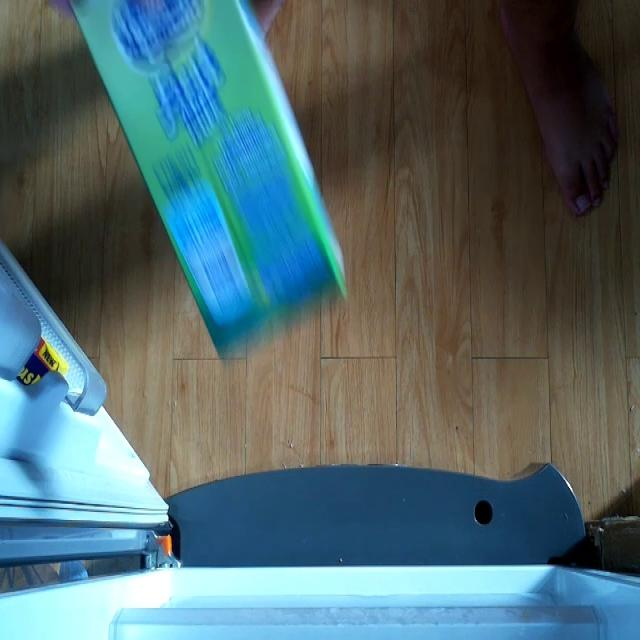milk: (66, 0, 351, 363)
